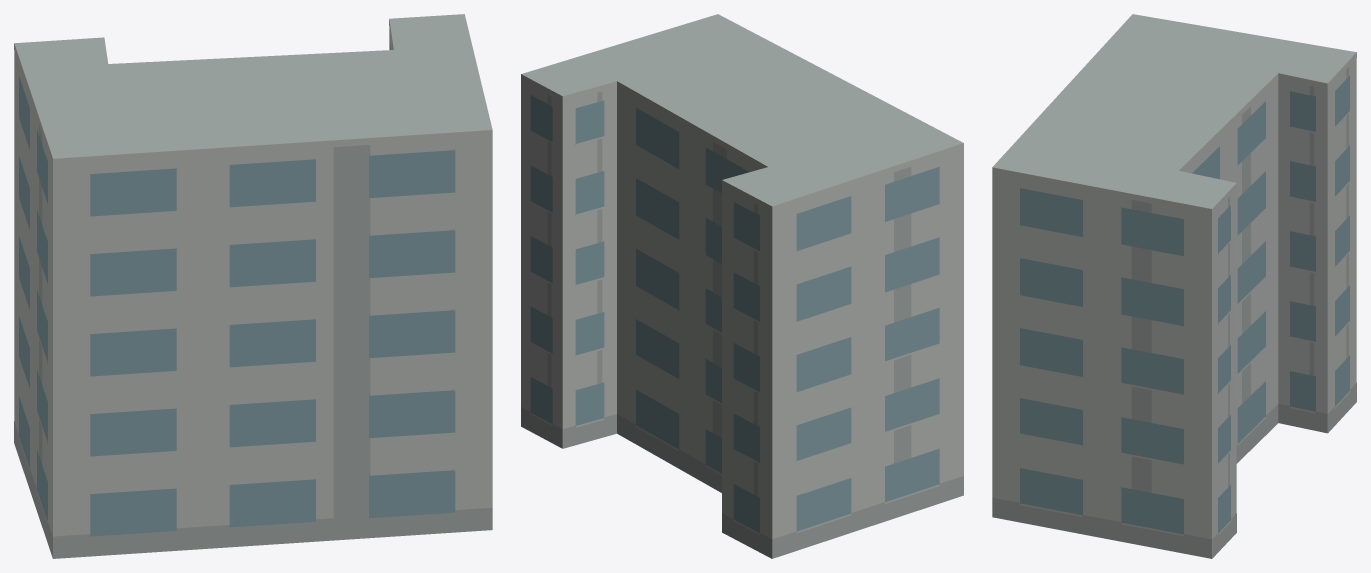
File: survey-upis-32489781.glb
3 renders of one model, left to right at view 1: azimuth 30°, elevation 25°; view 2: azimuth 150°, elevation 25°; view 3: azimuth 270°, elevation 25°, orthographic. The views are drawn at different scales.
Visible parts, largest first — view 1: survey-upis-32489781.tmp; view 2: survey-upis-32489781.tmp; view 3: survey-upis-32489781.tmp.
Boxes of the visible parts, box(x1,y1,x2,y2) form: survey-upis-32489781.tmp: box(14, 14, 492, 558); survey-upis-32489781.tmp: box(521, 14, 963, 558); survey-upis-32489781.tmp: box(992, 14, 1356, 558).
Bounding box in the file's own units: 16.99 × 14.2 × 13.42.
